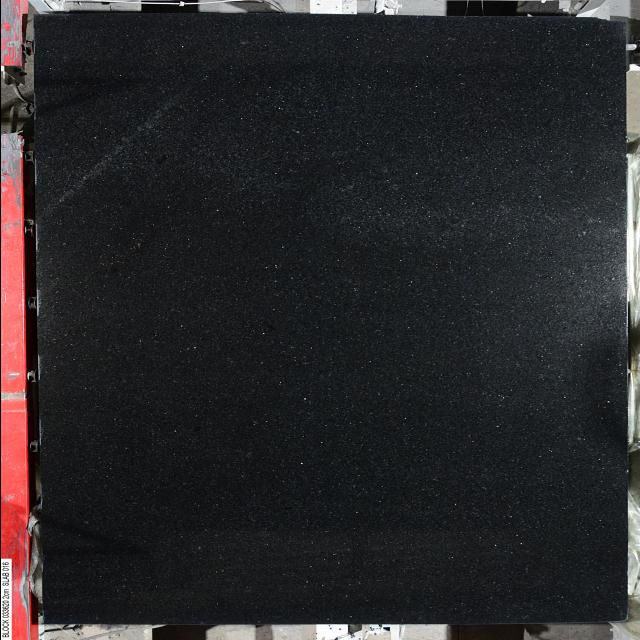chapa: (34, 14, 626, 624)
